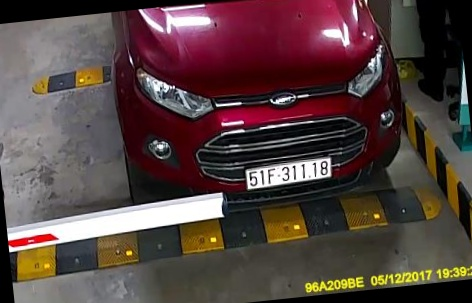plate: (243, 154, 343, 196)
